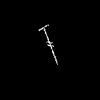treble_crochet: (39, 26, 55, 58)
